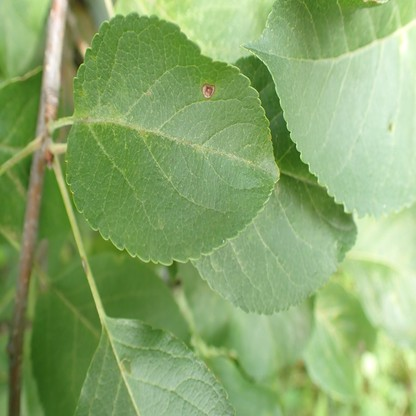frogeye_leaf_spot: (202, 82, 215, 98)
